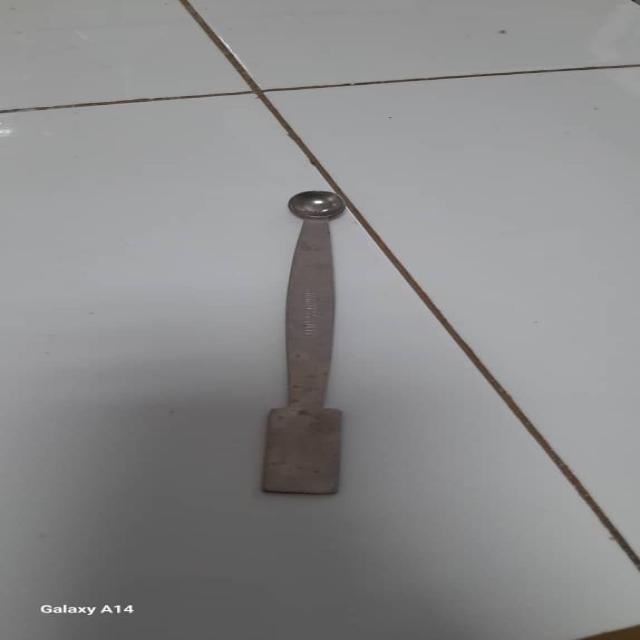Spatula: (252, 184, 358, 494)
